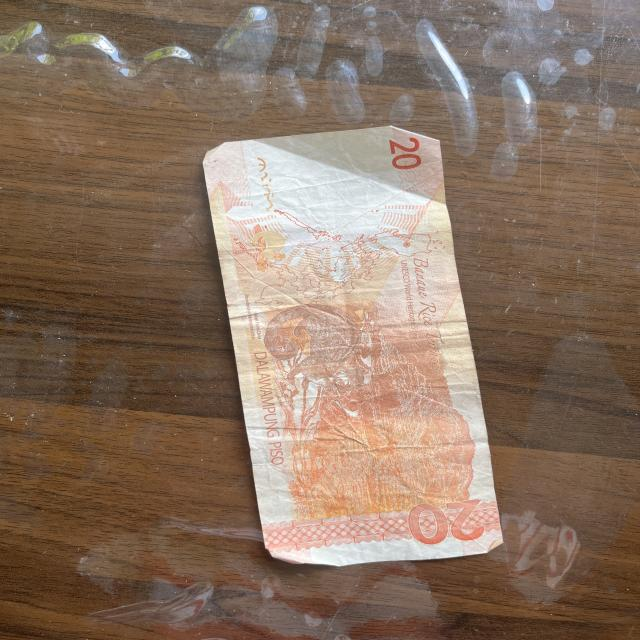20_civet: (250, 299, 369, 398)
20_civet_watermark: (245, 228, 288, 266)
